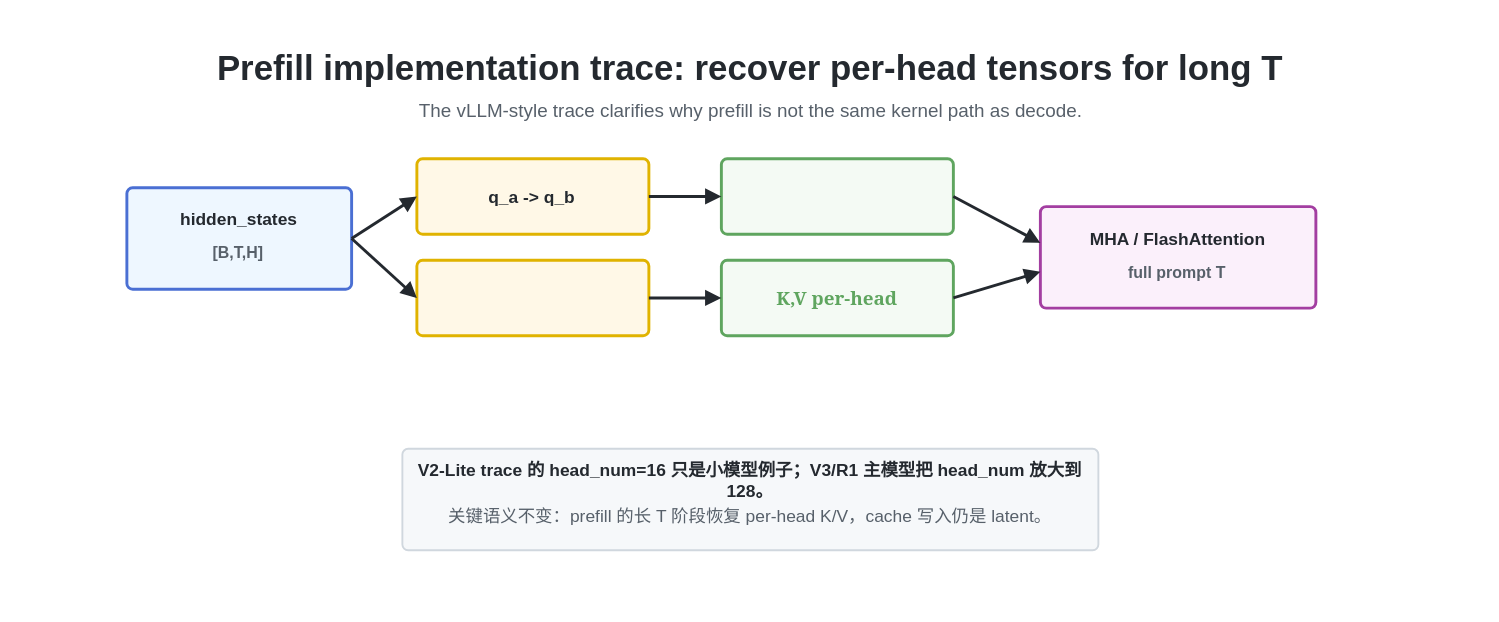
Some shapes in this 1499 by 622 pixel diagram are drawn without their labels. The shapes that lost their labels are listed below. From the top down, each one's box as (x1, y1, x2, y2) in pixels, then its label:
(719, 157, 954, 235): Q = [q^C ; q^R]
(415, 258, 650, 336): kv_a -> kv_b
